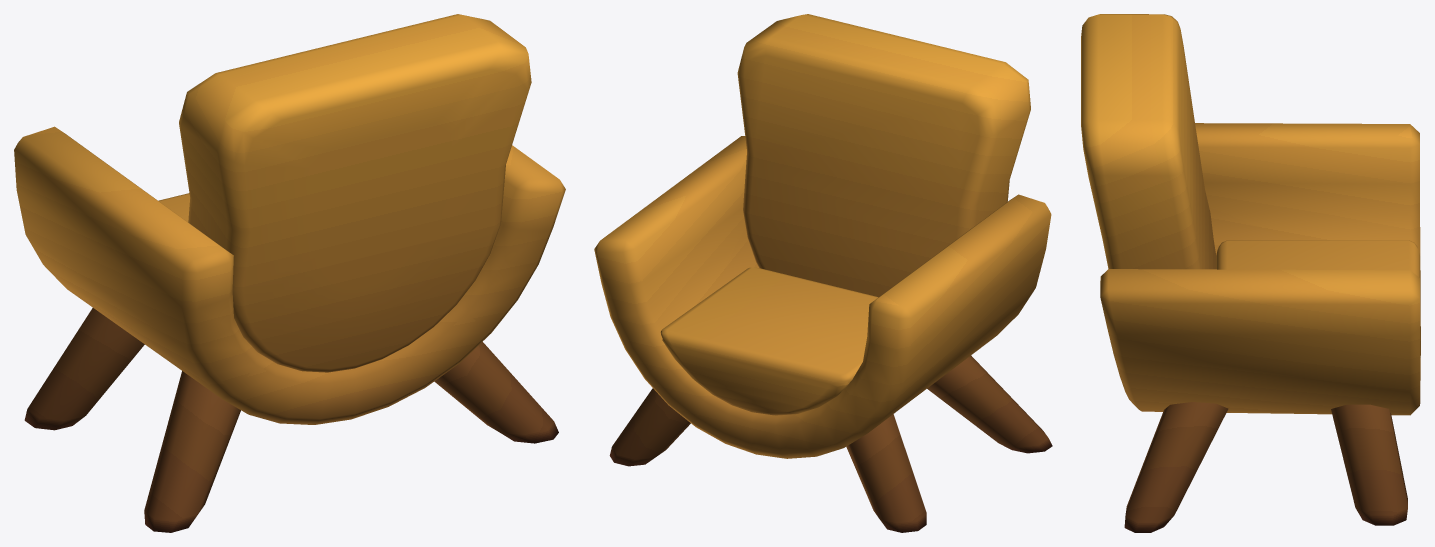
File: Chair.fbx
The picture shows the model from 3 angles, left to right: view 1: azimuth 30°, elevation 25°; view 2: azimuth 150°, elevation 25°; view 3: azimuth 270°, elevation 25°; orthographic projection. The views are drawn at different scales.
Visible parts, largest first — view 1: Chair; view 2: Chair; view 3: Chair.
Boxes of the visible parts, bbox=[...] form: Chair: bbox=[14, 14, 565, 532]; Chair: bbox=[594, 14, 1052, 532]; Chair: bbox=[1081, 14, 1420, 532].
Bounding box in the file's own units: 0.9355 × 0.7657 × 0.9476.
